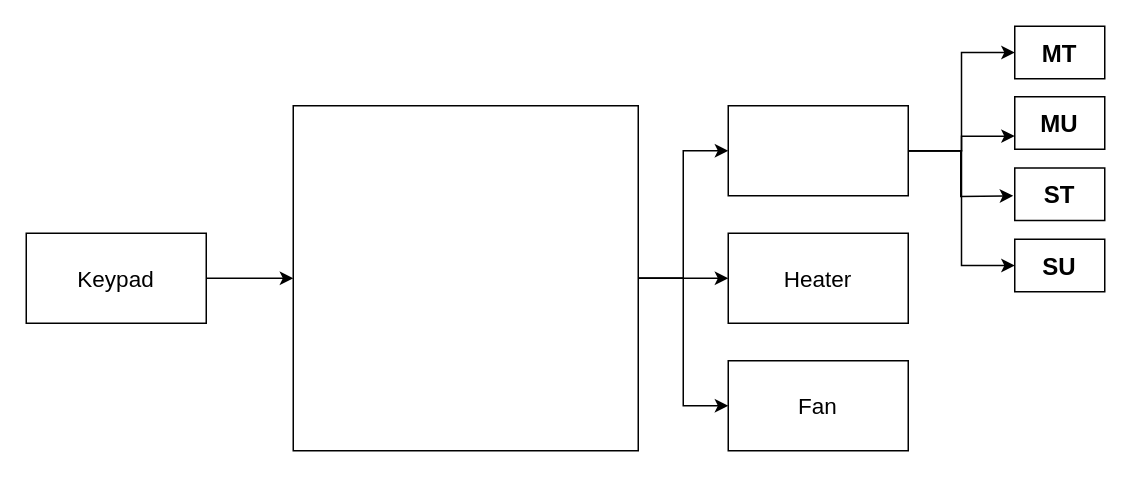
Some shapes in this 1131 by 477 pixel diagram are drawn without their labels. The shapes that lost their labels are listed below. From the top down, each one's centre as x and y in pixels, then its label:
At point (817, 150): "Seven Segments Display".
At point (465, 277): "Microwave Oven".
